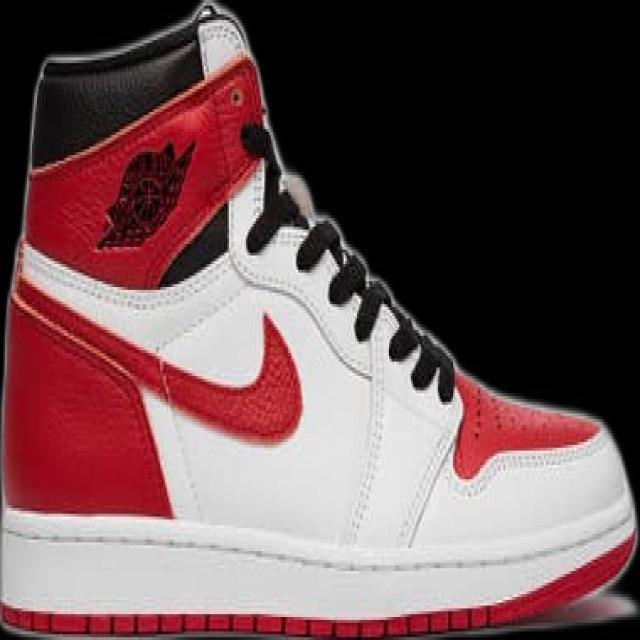J1_InsoleChar: (1, 3, 636, 636)
J1_ShoeLogo: (93, 137, 197, 252)
J1_StitchPattern: (194, 11, 459, 405), (250, 170, 465, 548), (3, 516, 635, 575), (340, 278, 460, 551), (293, 215, 458, 403), (9, 288, 143, 403), (351, 279, 457, 403), (341, 323, 389, 552), (150, 349, 207, 519), (395, 418, 461, 549), (384, 313, 457, 402), (294, 217, 367, 304), (294, 218, 338, 271), (351, 282, 384, 343)
